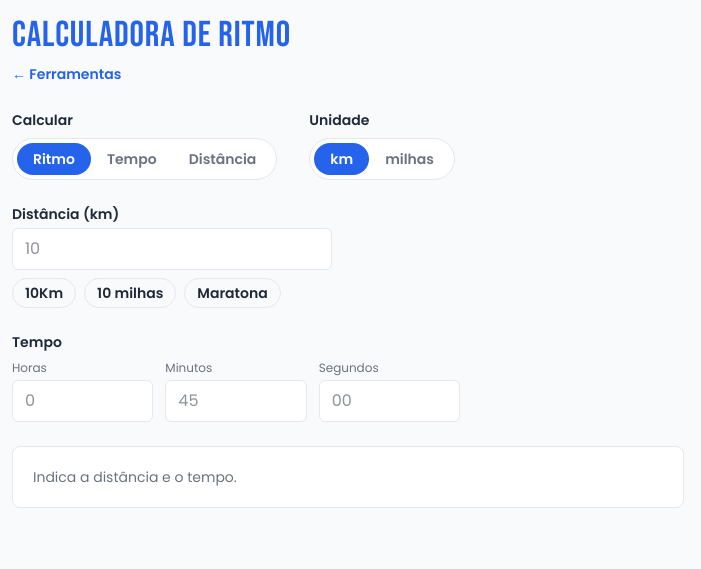
Test: PaceCalculator › works out the time from a distance and a pace per mile
Click the button "Tempo".
click(132, 159)  # box [91,143,173,175]
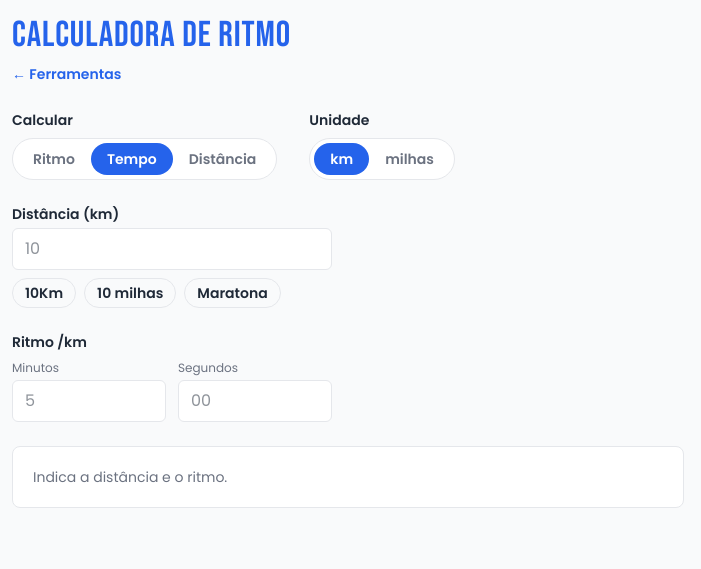
Click the button "milhas".
click(410, 159)  # box [369,143,450,175]
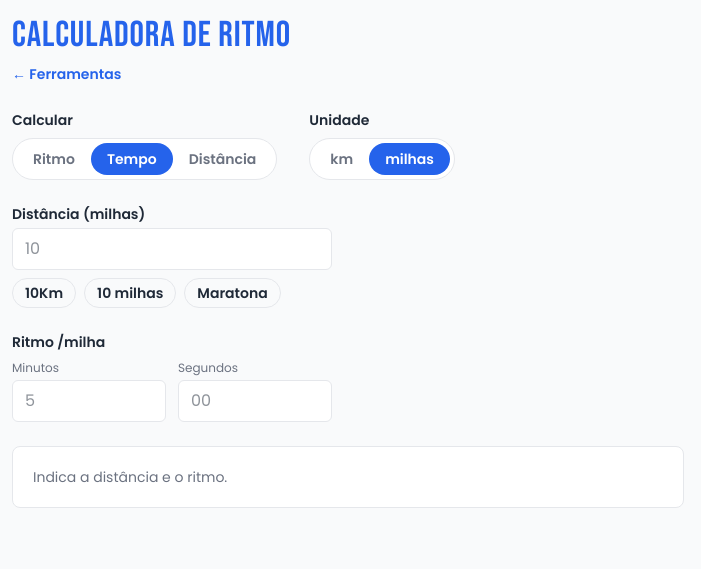
Click the button "Maratona".
click(233, 293)  # box [184,278,281,308]
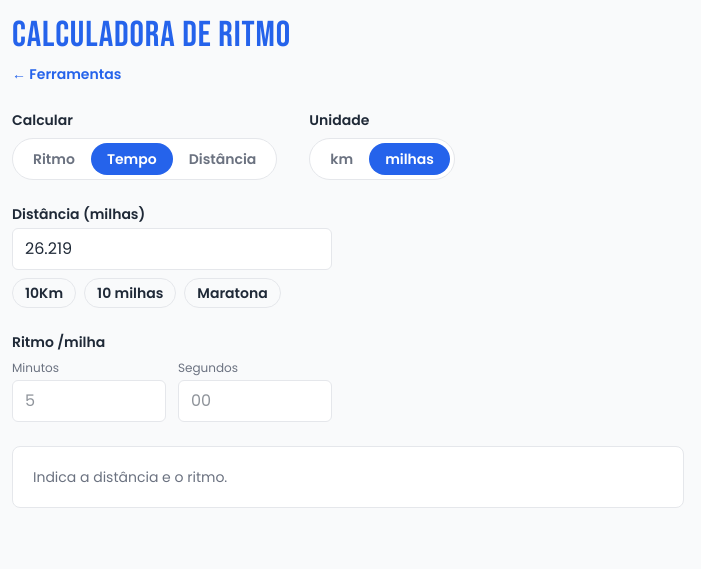
Type "8" into the number field labelled "Minutos".
click(89, 401); type("8")  # box [12,380,166,422]
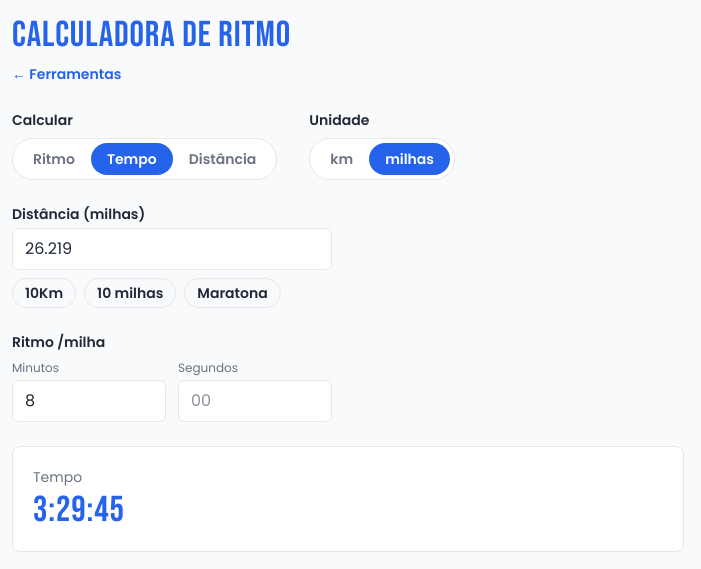
Check: the element named "Resultado" shows "3:29:45", box [33,489,125,532]
